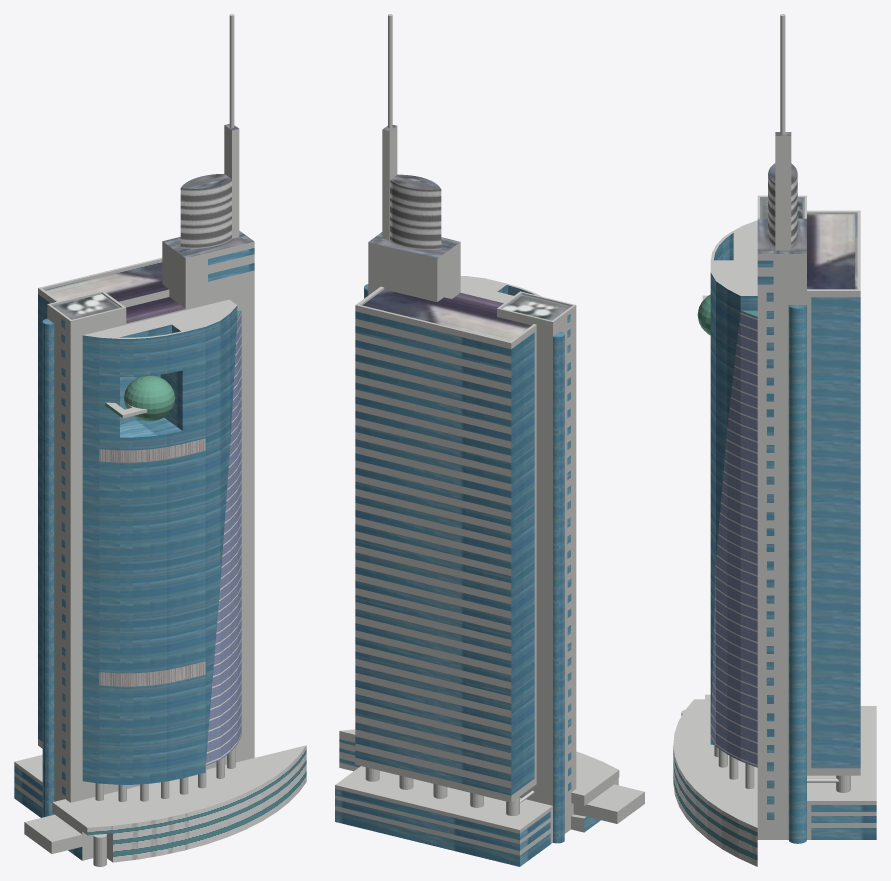
File: special_zone_daily_tower_2f0fbb8d.glb
3 renders of one model, left to right at view 1: azimuth 30°, elevation 25°; view 2: azimuth 150°, elevation 25°; view 3: azimuth 270°, elevation 25°, orthographic. The views are drawn at different scales.
Visible parts, largest first — view 1: special_zone_daily_tower_2f0fbb8d; view 2: special_zone_daily_tower_2f0fbb8d; view 3: special_zone_daily_tower_2f0fbb8d.
Part boxes in pixels (left/top/right/bottom): special_zone_daily_tower_2f0fbb8d: left=14, top=14, right=306, bottom=866; special_zone_daily_tower_2f0fbb8d: left=335, top=14, right=644, bottom=866; special_zone_daily_tower_2f0fbb8d: left=673, top=14, right=876, bottom=866.
Bounding box in the file's own units: 100 × 266 × 59.7.
Materials: 1 (1 with a texture image).
